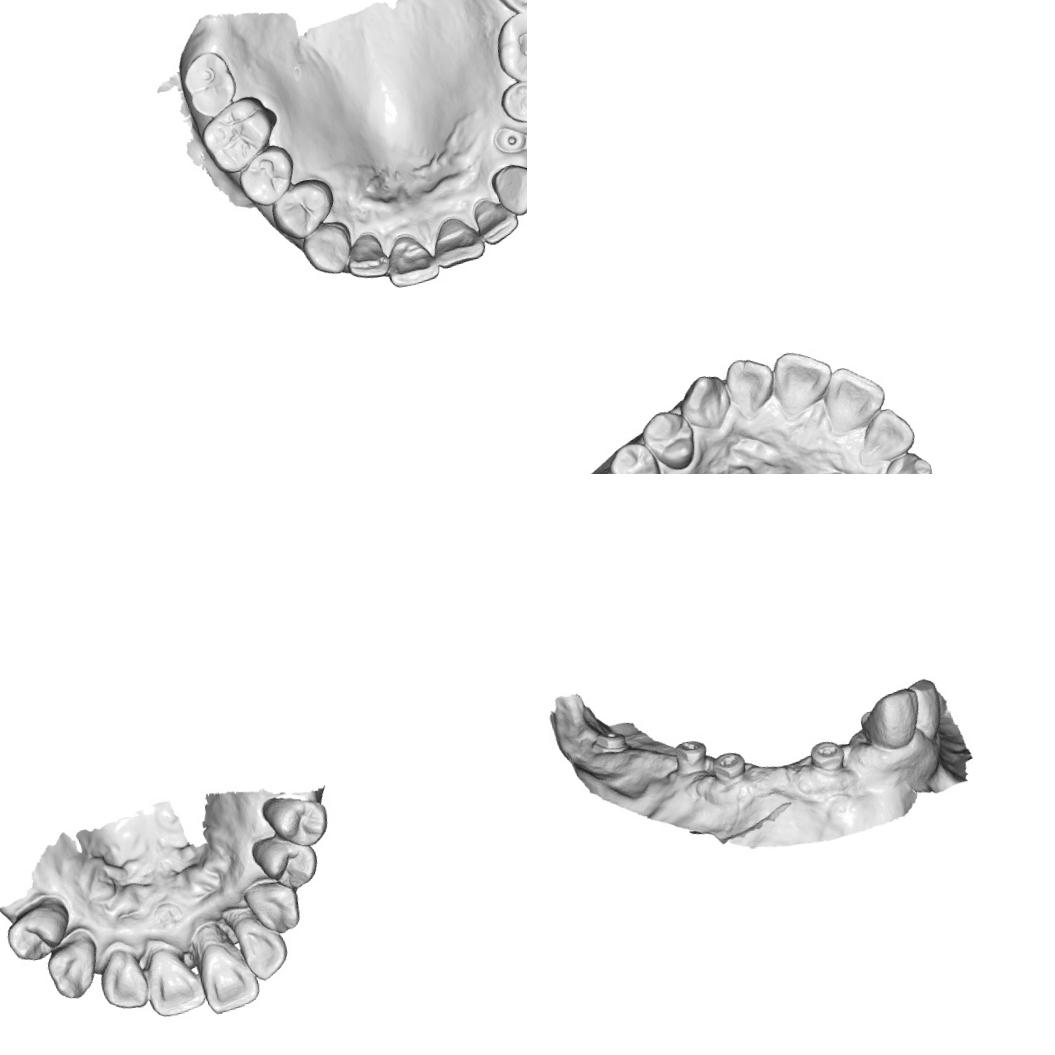canine: (41, 931, 108, 1005), (238, 872, 306, 940), (672, 368, 736, 436), (298, 218, 356, 279), (488, 159, 527, 220), (873, 445, 937, 474)
implant: (586, 726, 631, 758), (489, 120, 527, 157)
implant_minus: (670, 736, 711, 778), (806, 736, 848, 775), (707, 747, 749, 784)
incisor: (193, 934, 268, 1018), (816, 359, 890, 437), (765, 344, 838, 420), (139, 941, 207, 1022), (854, 684, 926, 756), (848, 401, 921, 469), (231, 910, 293, 984), (93, 941, 154, 1015), (720, 350, 777, 416), (428, 211, 487, 270), (381, 230, 440, 289), (470, 192, 522, 248), (341, 229, 391, 282)
molar: (194, 90, 286, 178), (178, 47, 242, 122), (490, 6, 527, 89)
premolar: (0, 895, 77, 970), (246, 824, 324, 898), (256, 785, 336, 855), (266, 173, 340, 244), (232, 140, 300, 210), (636, 405, 700, 474), (605, 437, 665, 474), (496, 73, 527, 128)
